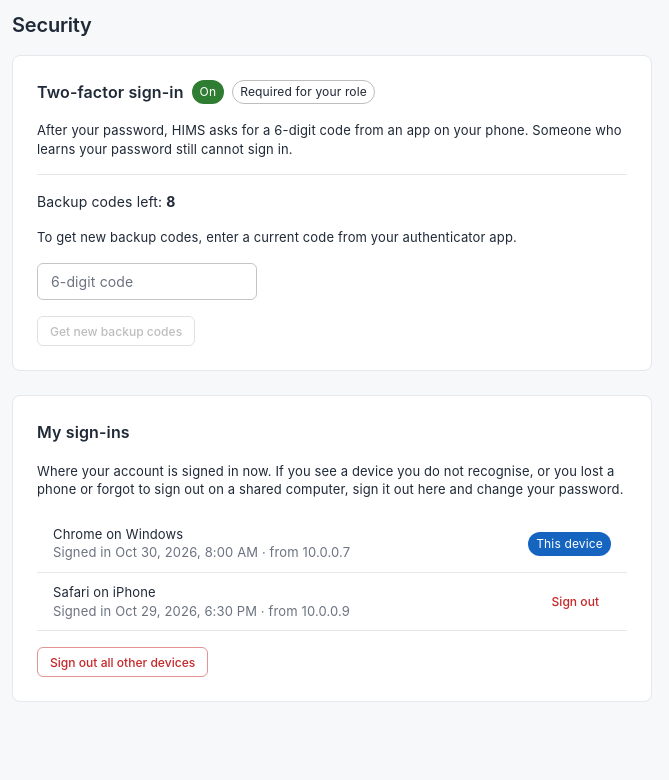
Test: My sign-ins (HIMS-IAM-016) › signs out all other devices and says how many
Click the button "Sign out all other devices" at [123, 662], box [37,647,208,677]
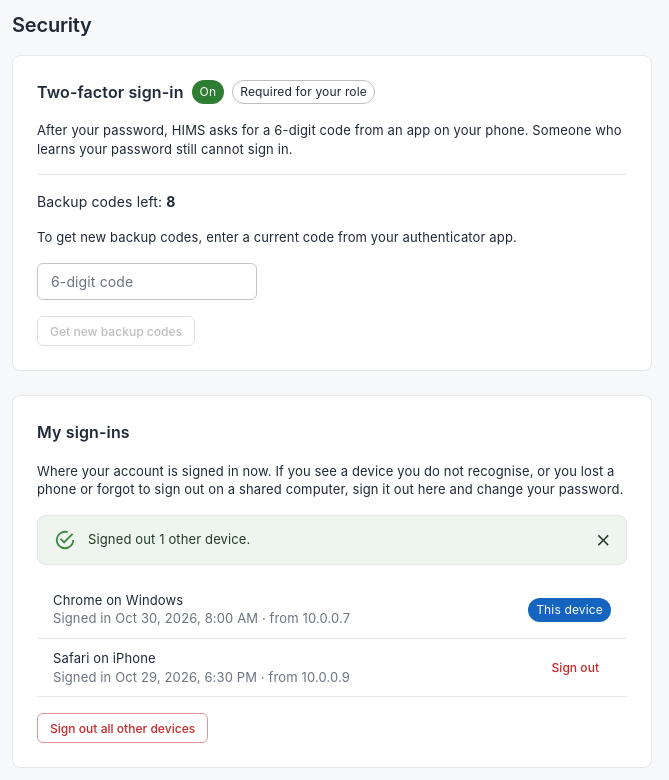
Check: the text "Signed out 1 other device." is shown, box [88,531,250,547]
